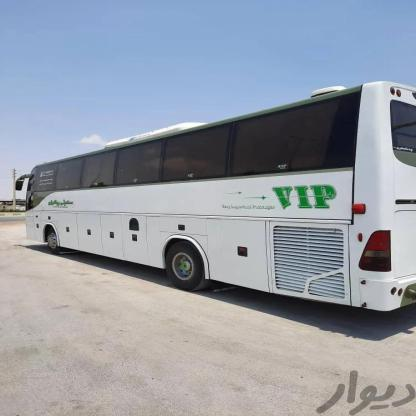Bus: (0, 66, 416, 324)
